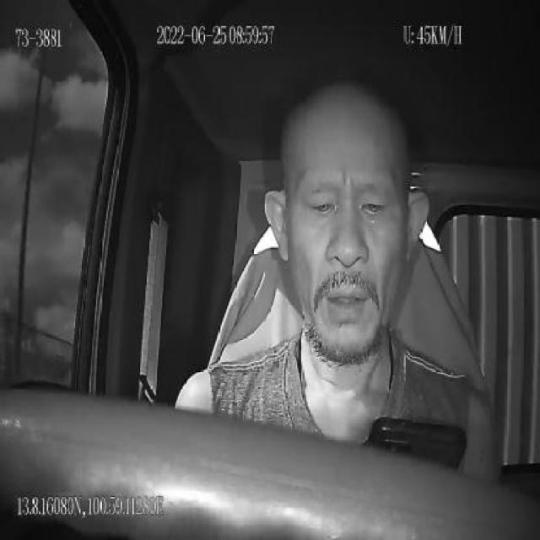phone: (363, 414, 466, 474)
